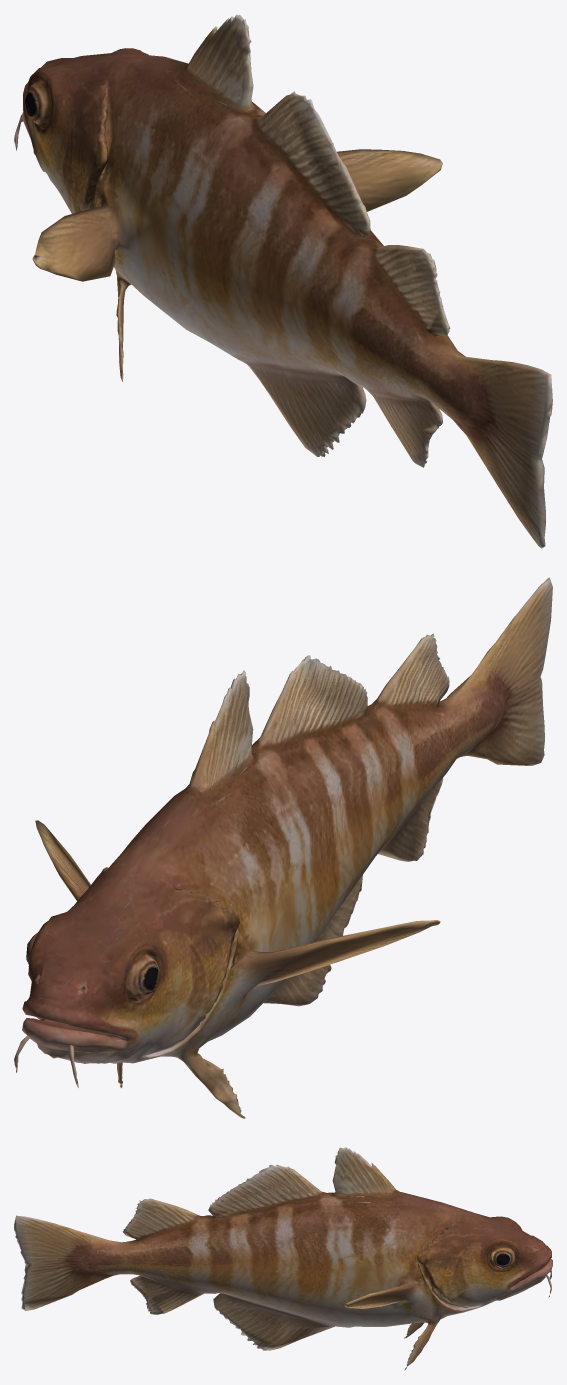
The model's file is steenbolk.glb.
3 views of the same model, one above another, from view 1: azimuth 30°, elevation 25°; view 2: azimuth 150°, elevation 25°; view 3: azimuth 270°, elevation 25° (orthographic). The views are drawn at different scales.
Parts seen in each view (by area): view 1: tripo_node_89d87e2a-f87a-4391-a4d3-4db0e06d3e10; view 2: tripo_node_89d87e2a-f87a-4391-a4d3-4db0e06d3e10; view 3: tripo_node_89d87e2a-f87a-4391-a4d3-4db0e06d3e10.
Boxes of the visible parts, <box> form: tripo_node_89d87e2a-f87a-4391-a4d3-4db0e06d3e10: <box>14,14,552,548</box>; tripo_node_89d87e2a-f87a-4391-a4d3-4db0e06d3e10: <box>14,577,552,1118</box>; tripo_node_89d87e2a-f87a-4391-a4d3-4db0e06d3e10: <box>14,1147,552,1370</box>.
Bounding box in the file's own units: 0.379 × 0.35 × 0.8242.
Materials: 1 (1 with a texture image).
